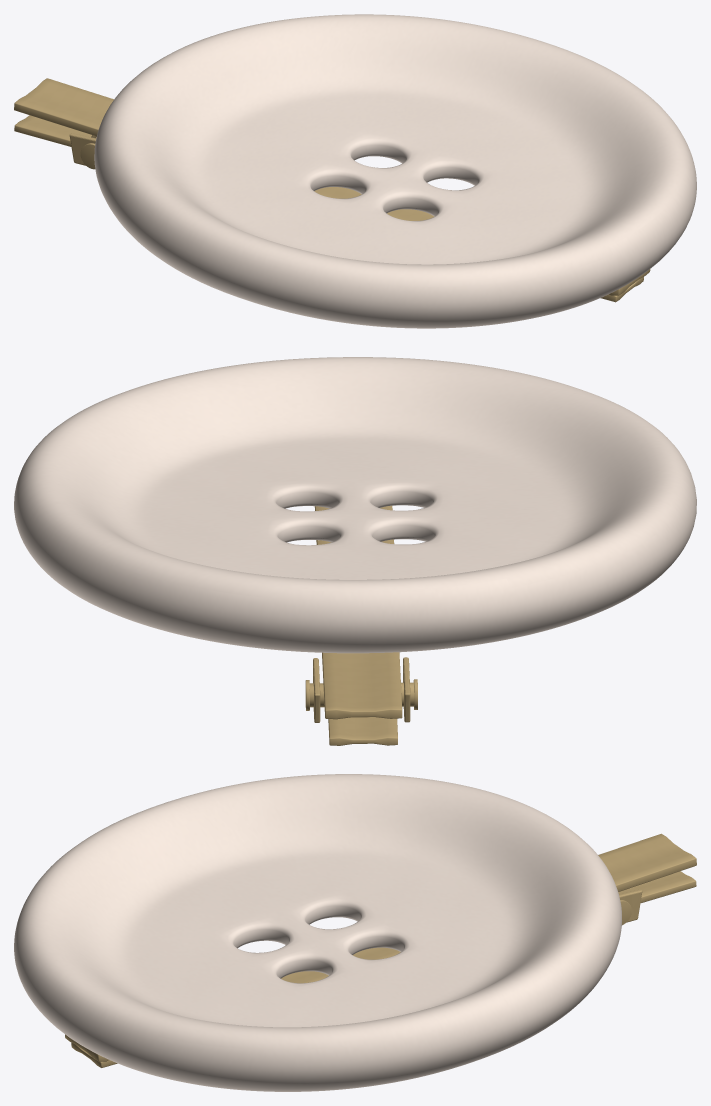
Rendered from HairClip_Ceramic.glb.
The picture shows the model from 3 angles, top to bottom: view 1: azimuth 30°, elevation 25°; view 2: azimuth 150°, elevation 25°; view 3: azimuth 270°, elevation 25°; orthographic projection. The views are drawn at different scales.
Parts seen in each view (by area): view 1: HairClip_Ceramic__Pink_Four_Hole_Button, HairClip_Ceramic__Fixed_Serrated_Jaw, HairClip_Ceramic__Moving_Jaw_Static_Pose; view 2: HairClip_Ceramic__Pink_Four_Hole_Button, HairClip_Ceramic__Fixed_Serrated_Jaw, HairClip_Ceramic__Moving_Jaw_Static_Pose; view 3: HairClip_Ceramic__Pink_Four_Hole_Button, HairClip_Ceramic__Fixed_Serrated_Jaw, HairClip_Ceramic__Moving_Jaw_Static_Pose.
Part boxes in pixels (bbox=[...]): HairClip_Ceramic__Pink_Four_Hole_Button: bbox=[94, 14, 696, 328]; HairClip_Ceramic__Fixed_Serrated_Jaw: bbox=[14, 78, 650, 295]; HairClip_Ceramic__Moving_Jaw_Static_Pose: bbox=[14, 115, 643, 302]; HairClip_Ceramic__Pink_Four_Hole_Button: bbox=[14, 357, 696, 653]; HairClip_Ceramic__Fixed_Serrated_Jaw: bbox=[314, 505, 402, 719]; HairClip_Ceramic__Moving_Jaw_Static_Pose: bbox=[328, 717, 397, 745]; HairClip_Ceramic__Pink_Four_Hole_Button: bbox=[14, 774, 621, 1091]; HairClip_Ceramic__Fixed_Serrated_Jaw: bbox=[65, 833, 696, 1061]; HairClip_Ceramic__Moving_Jaw_Static_Pose: bbox=[71, 871, 696, 1067].
Bounding box in the file's own units: 39.87 × 8.22 × 44.74.
2 materials, 2 textured.
